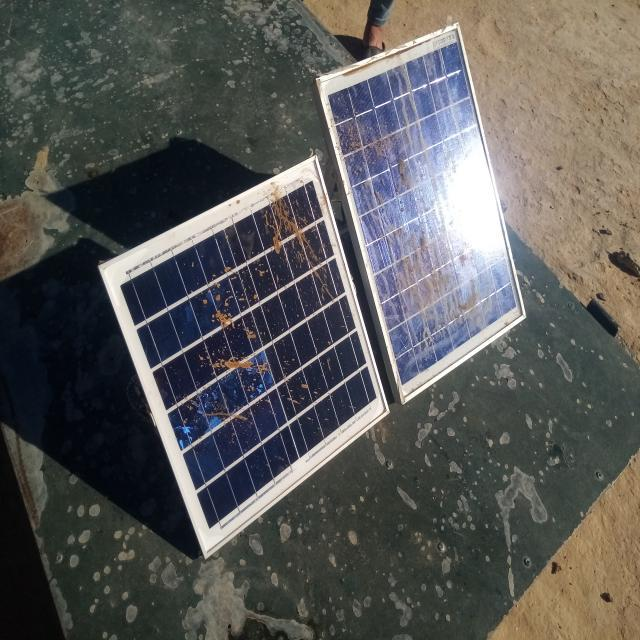faulty: (102, 158, 389, 559), (320, 27, 523, 404)
